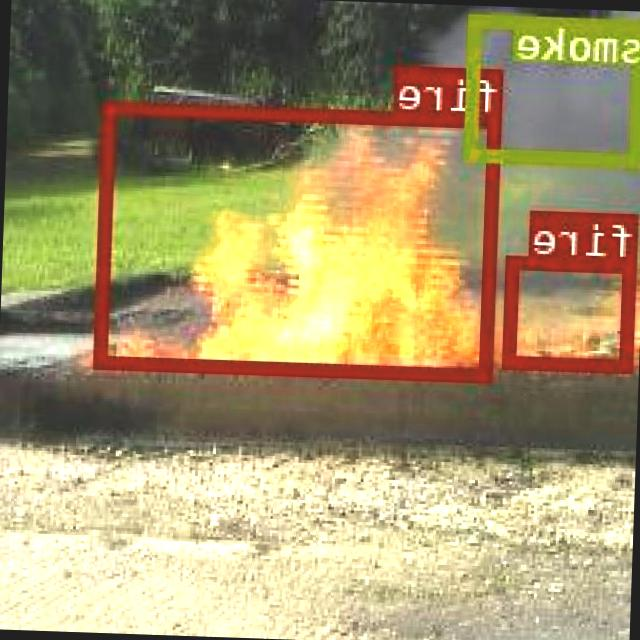fire: (97, 100, 504, 380), (506, 255, 640, 371)
smoke: (466, 12, 640, 165)
